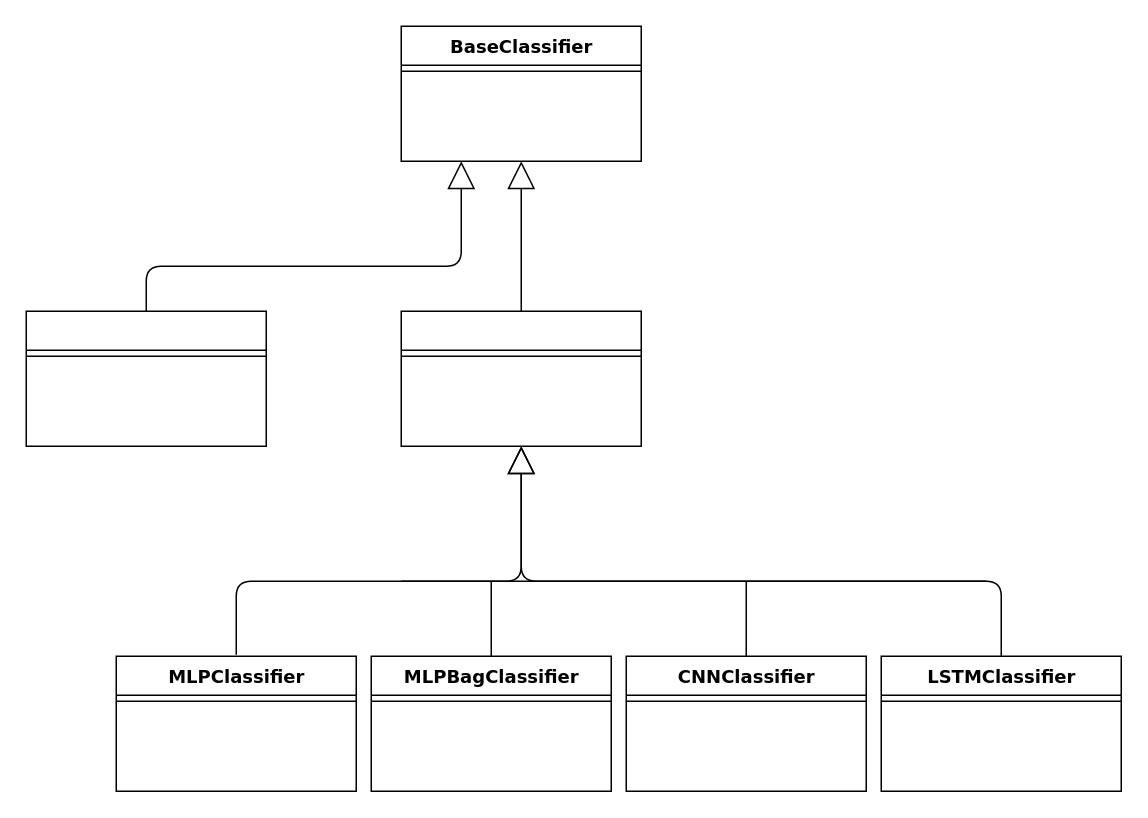
Some shapes in this 1148 by 818 pixel diagram are drawn without their labels. Here are the shapes that lost their labels. From the top down, the box of each, then its label:
(25, 310, 266, 446): BertClassifier
(400, 310, 641, 446): EmbeddingsBaseClassifier
